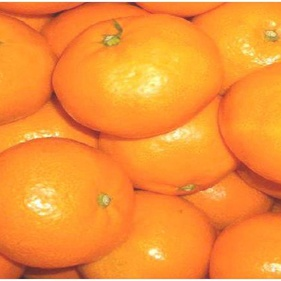mandarin: (51, 15, 223, 137), (1, 138, 136, 269), (98, 91, 245, 194), (79, 190, 215, 281), (187, 2, 281, 93), (220, 61, 281, 183), (39, 2, 155, 61), (1, 15, 57, 129), (1, 98, 98, 153), (207, 211, 281, 280), (178, 176, 276, 225)
